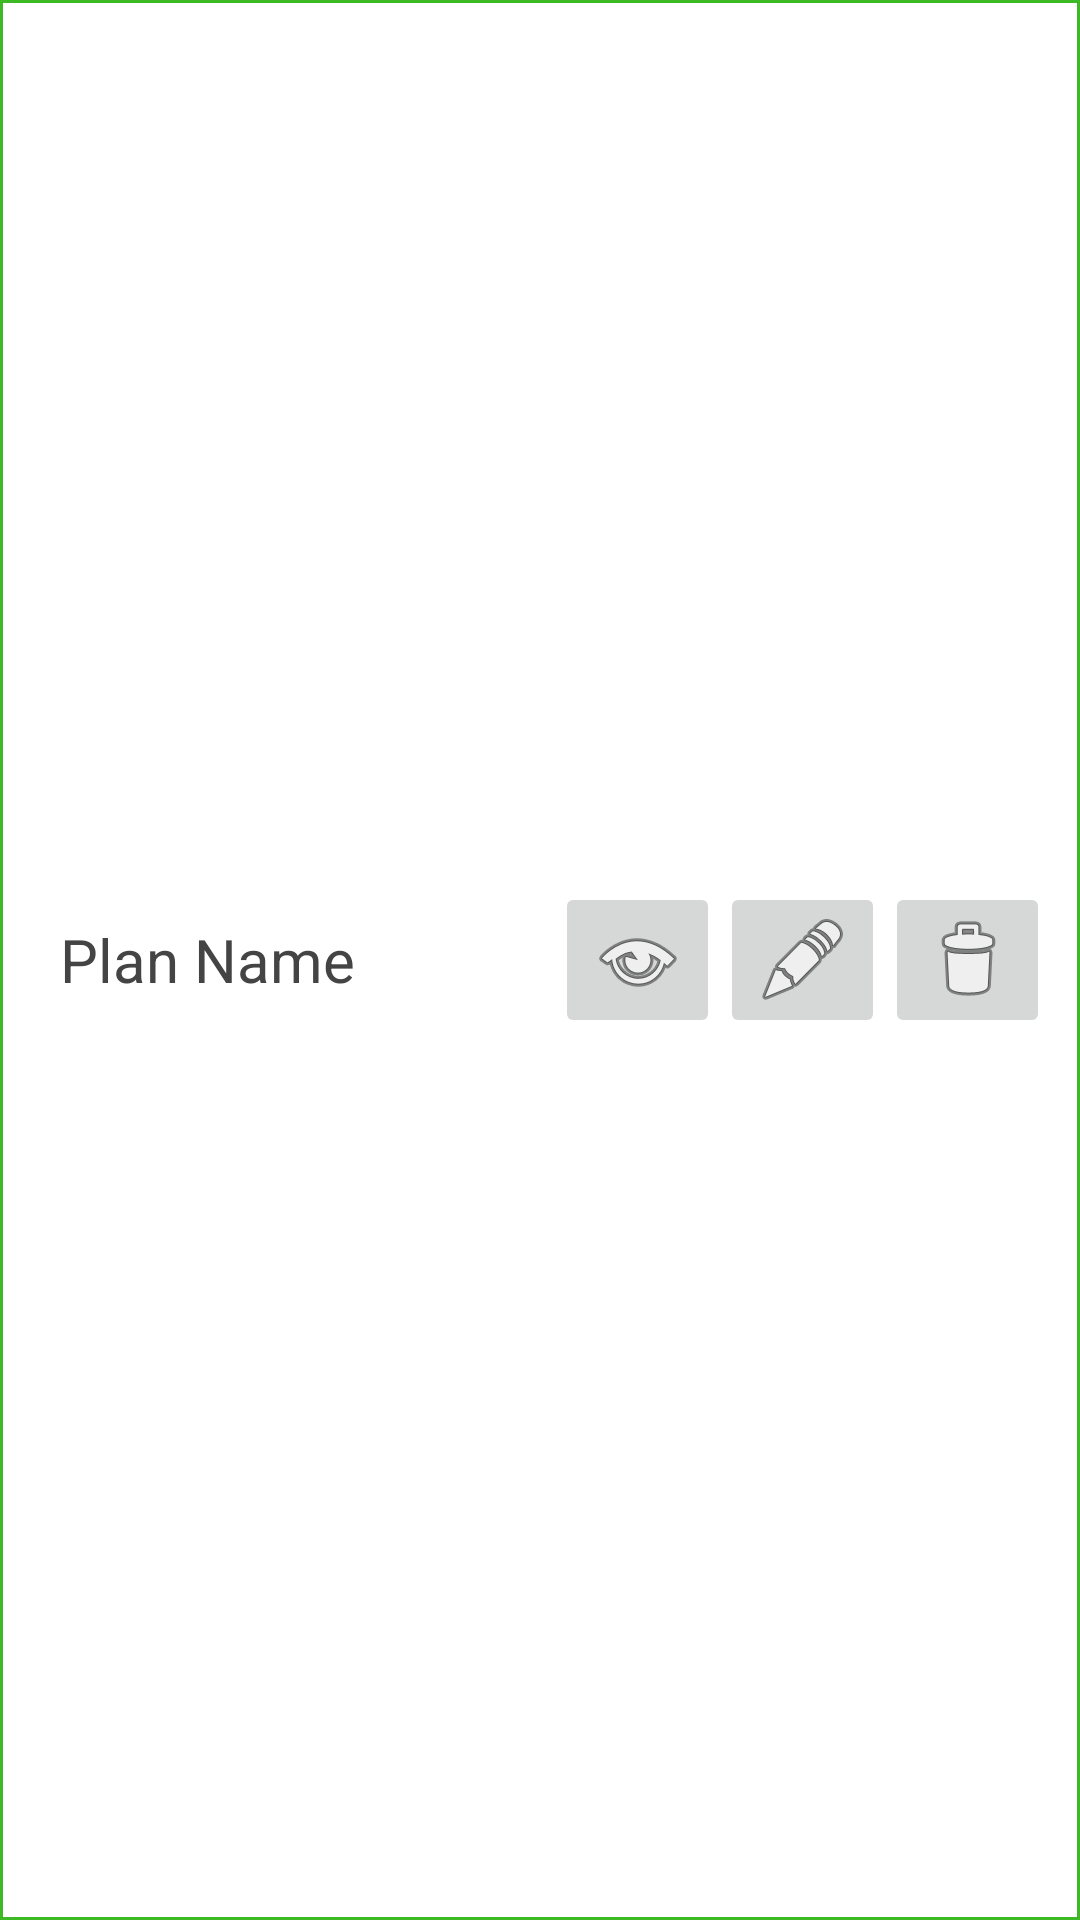

Point at icon controls on the screen. Image size 1080w x 1920h, points as (x=x, y=y).
Delete: (x=967, y=960)
Edit: (x=802, y=960)
view: (x=637, y=960)
